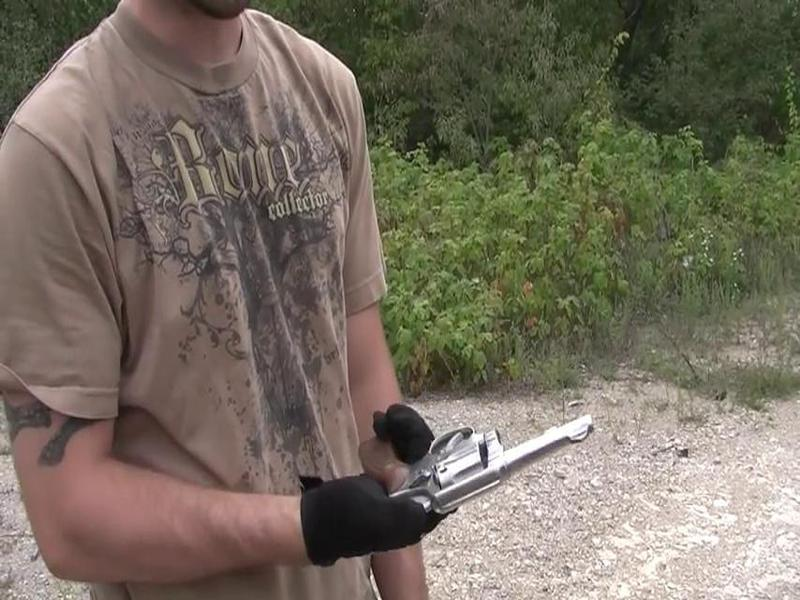Revolver: (377, 425, 599, 514)
